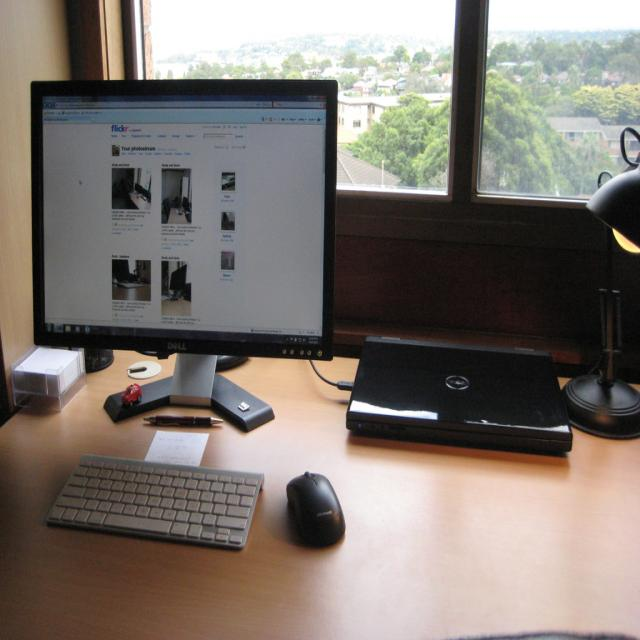Computer-mouse: (283, 467, 348, 542)
